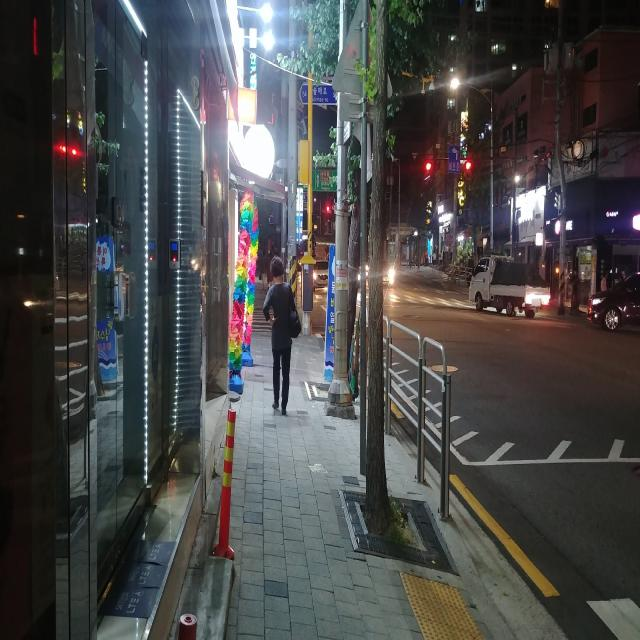횡단보도: (252, 308, 274, 332)
